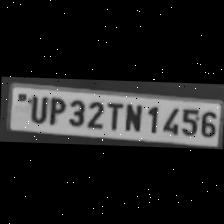1: (142, 100, 160, 132)
2: (84, 96, 106, 129)
3: (64, 94, 84, 125)
4: (160, 102, 180, 134)
5: (178, 104, 198, 136)
6: (196, 106, 217, 138)
N: (121, 99, 143, 130)
P: (44, 94, 64, 124)
T: (104, 97, 124, 129)
U: (25, 92, 47, 123)
